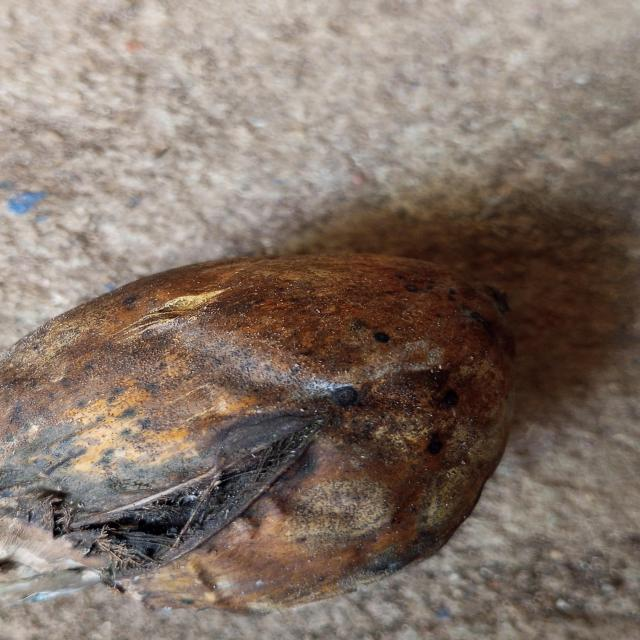damaged: (1, 255, 514, 612)
